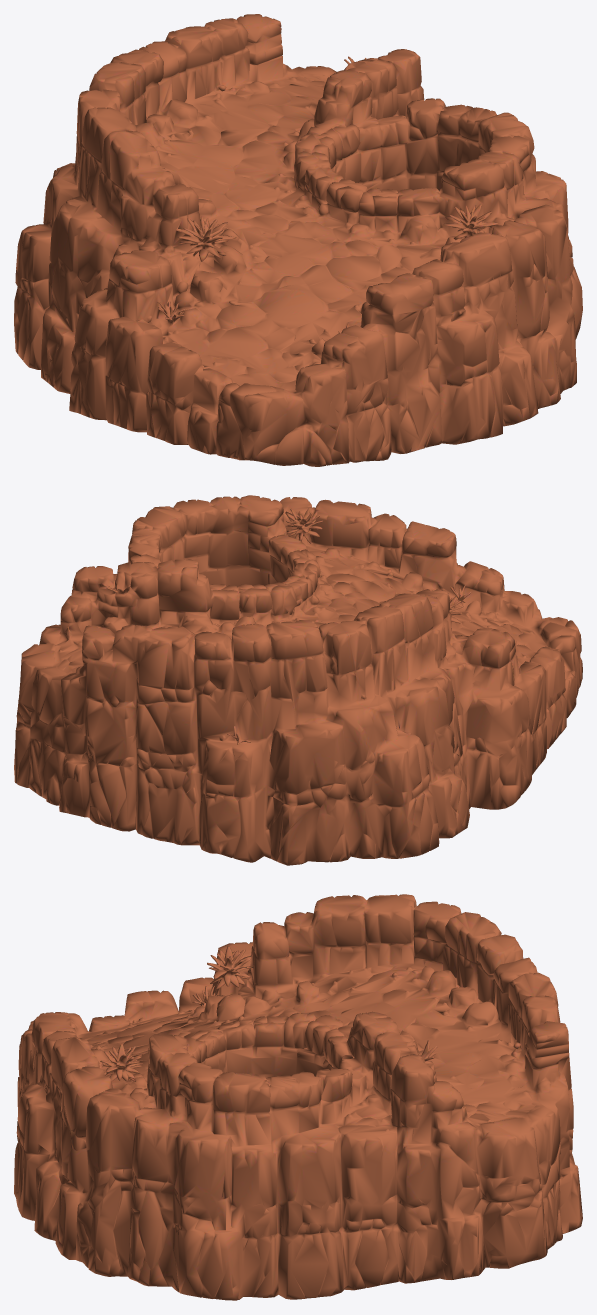
The model's file is terreno_de_mazmorra_de_piedra.glb.
3 renders of one model, top to bottom at view 1: azimuth 30°, elevation 25°; view 2: azimuth 150°, elevation 25°; view 3: azimuth 270°, elevation 25°, orthographic. The views are drawn at different scales.
Parts seen in each view (by area): view 1: terreno_de_mazmorra_de_piedra; view 2: terreno_de_mazmorra_de_piedra; view 3: terreno_de_mazmorra_de_piedra.
Part boxes in pixels (box(x1,y1,x2,y2)): terreno_de_mazmorra_de_piedra: box(14, 14, 582, 466); terreno_de_mazmorra_de_piedra: box(14, 495, 582, 865); terreno_de_mazmorra_de_piedra: box(14, 894, 582, 1300).
Size of what is drawn, in the model's own units: 9.21 by 4.53 by 10.
Materials: 1 (1 with a texture image).
